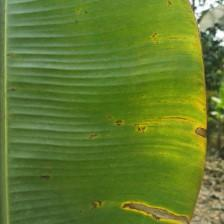pestalotiopsis: (0, 0, 208, 224)
